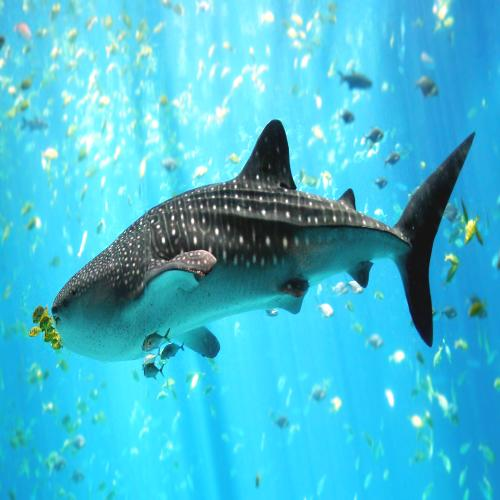shark-endangered: (52, 124, 476, 361)
